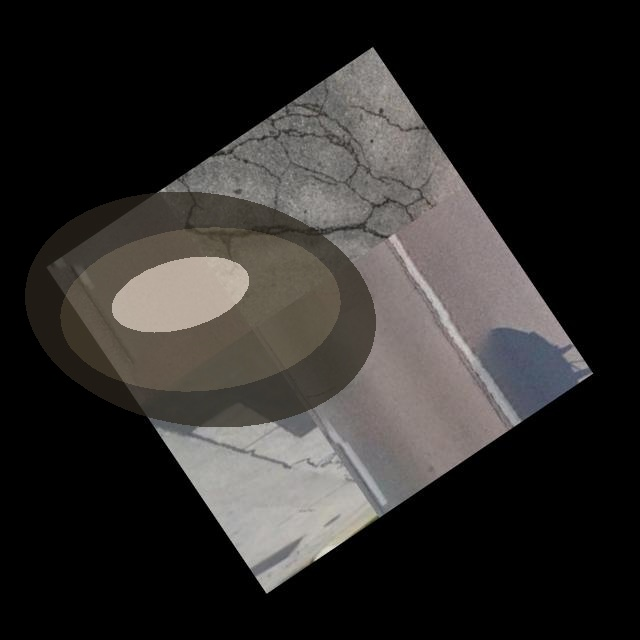waterlogging: (14, 183, 386, 435)
